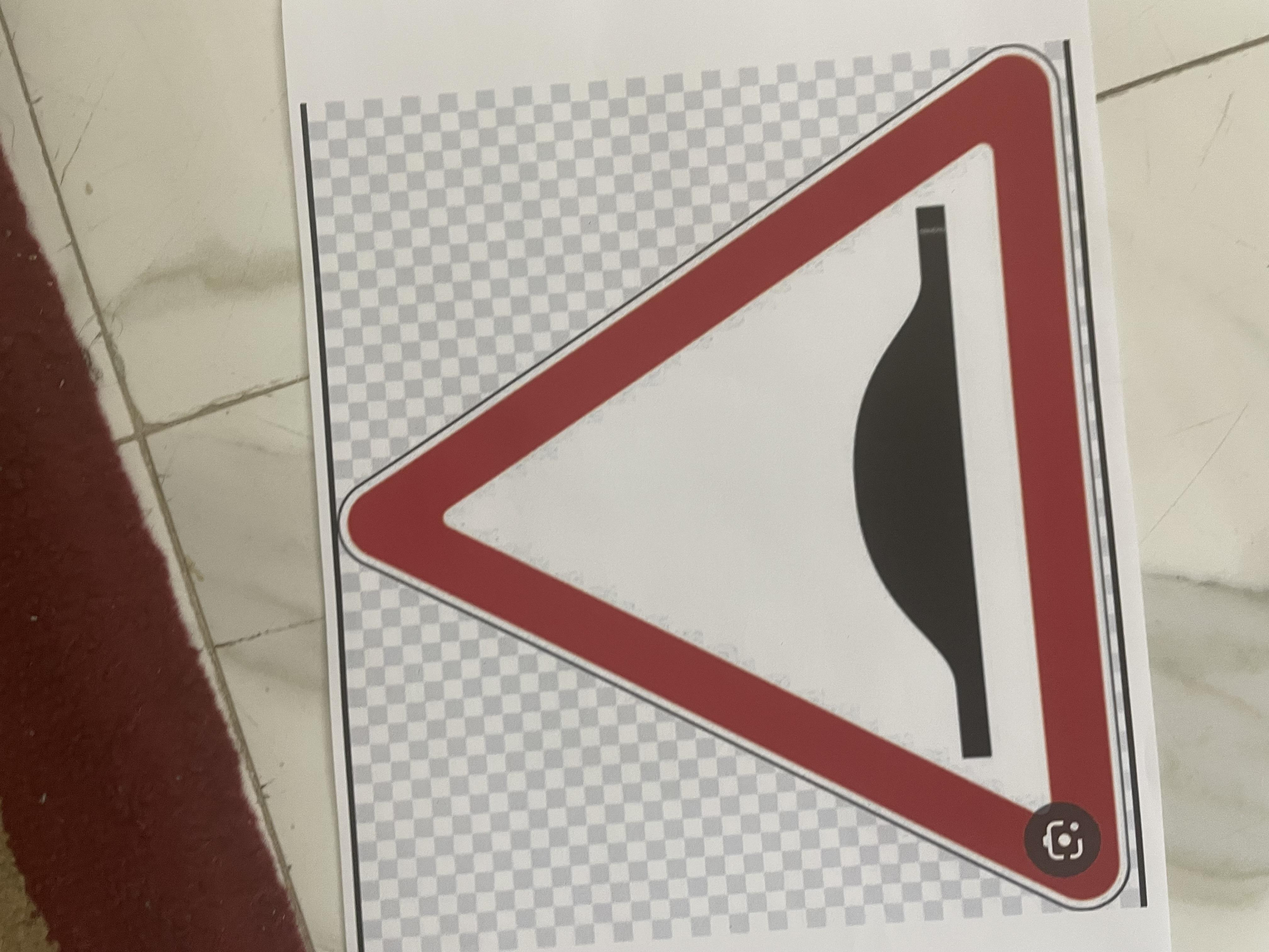Hump: (53, 251, 1226, 857)
